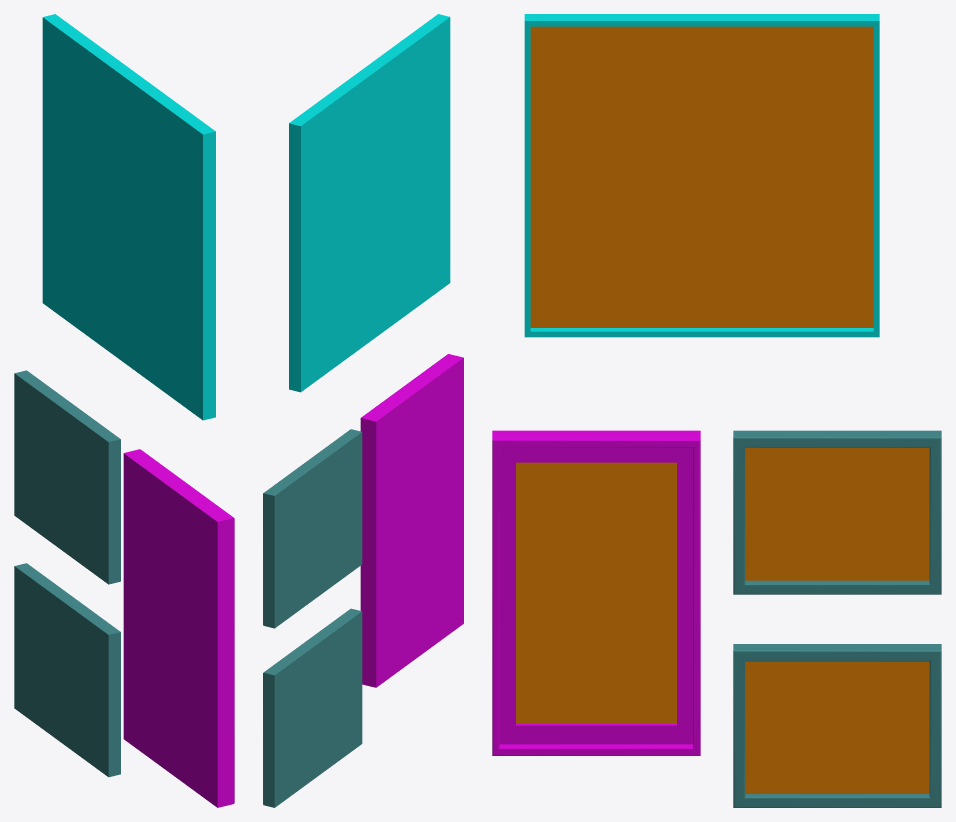
The picture shows the model from 3 angles, left to right: view 1: azimuth 30°, elevation 25°; view 2: azimuth 150°, elevation 25°; view 3: azimuth 270°, elevation 25°; orthographic projection. The views are drawn at different scales.
Visible parts, largest first — view 1: pCube168; view 2: pCube168; view 3: pCube168.
Boxes of the visible parts, left/top/right/bottom form: pCube168: left=14, top=14, right=234, bottom=807; pCube168: left=263, top=14, right=463, bottom=807; pCube168: left=492, top=14, right=941, bottom=807.
Bounding box in the file's own units: 5.15 × 202 × 105.
